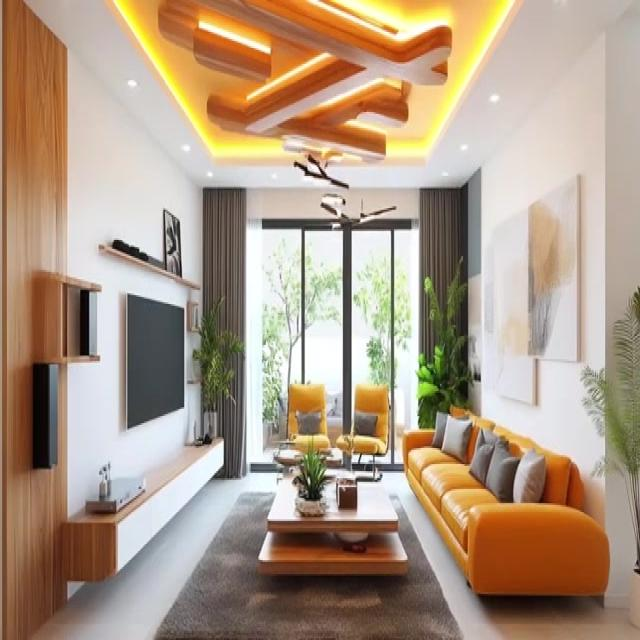obstacle: (401, 403, 610, 604), (58, 437, 226, 579), (338, 384, 390, 476), (286, 381, 330, 454)
